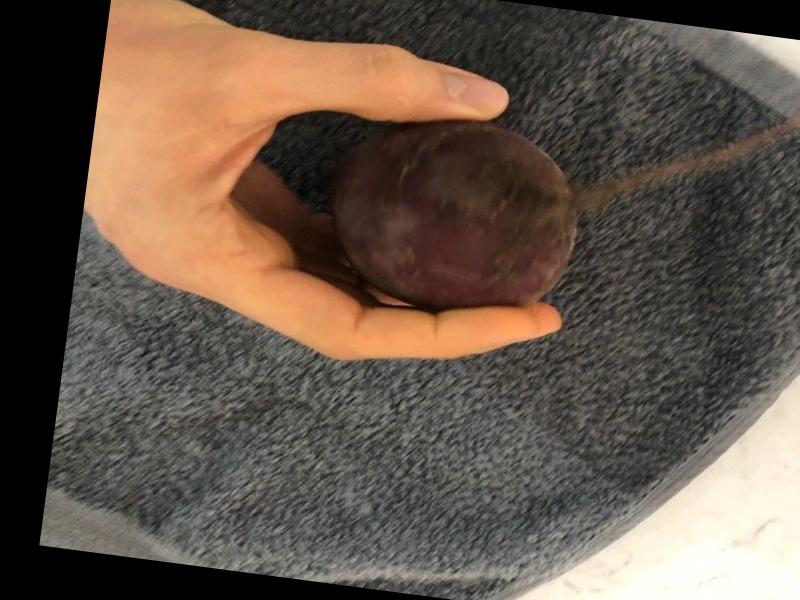Beet: (318, 103, 586, 326)
